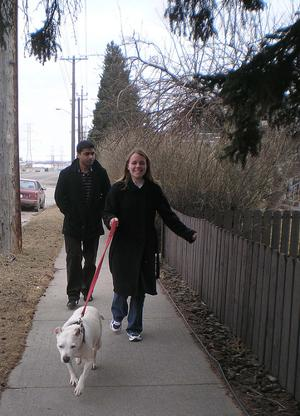person: (106, 152, 199, 342)
